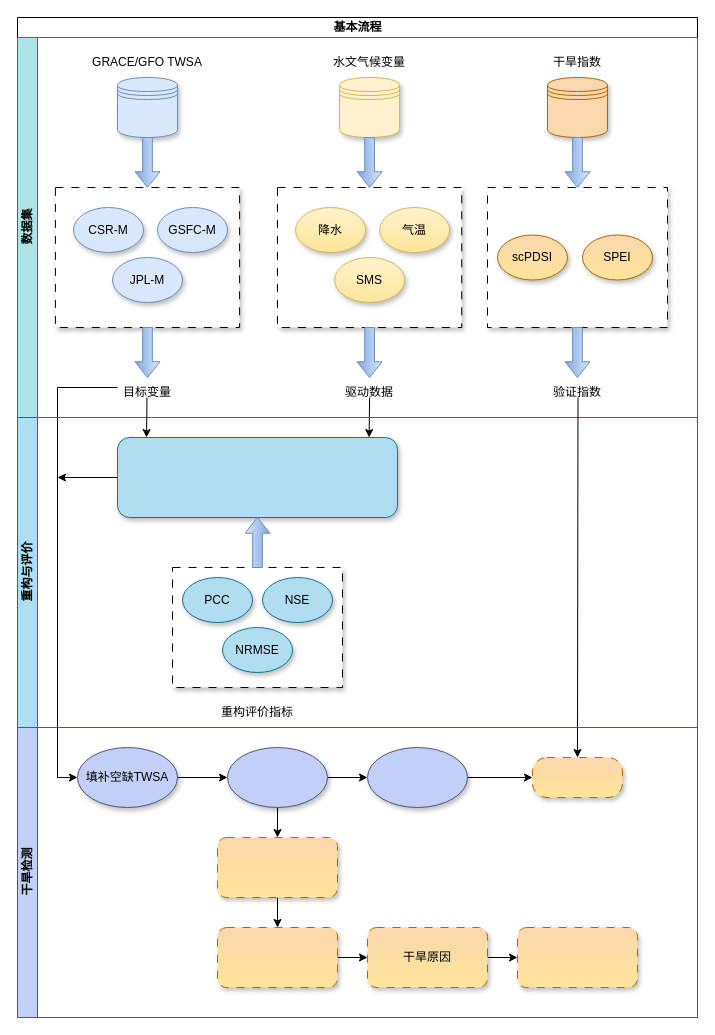
The diagram is 715 pixels wide and 1035 high, and some of its shapes have lost their labels. The centre of each missing label's shape, as x and y in pixels:
"WSD" goes at [278,778].
"WSDI" goes at [418,778].
"干旱识别" goes at [278,868].
"干旱量化" goes at [278,958].
"时间影响" goes at [578,958].
"重构空缺部分TWSA" goes at [258,478].
"验证" goes at [578,778].
